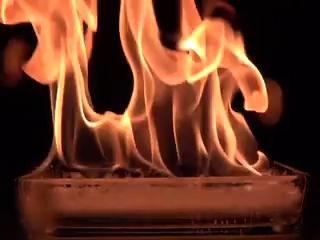Fire: (33, 1, 275, 175)
